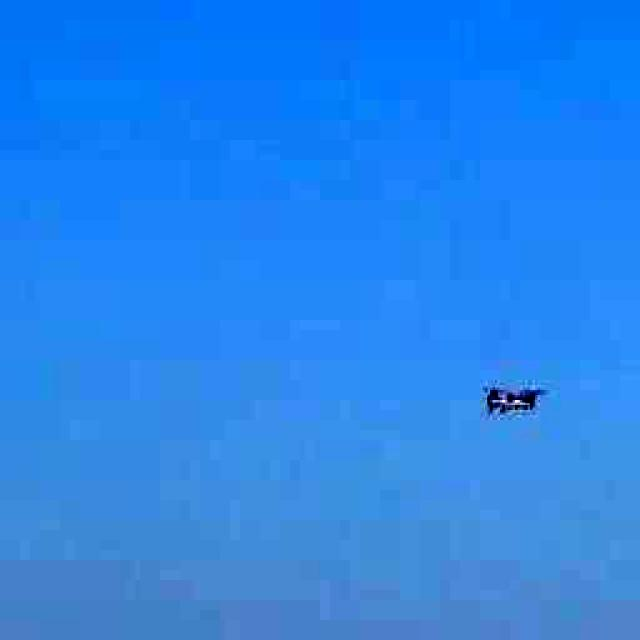bird: (452, 335, 562, 452)
